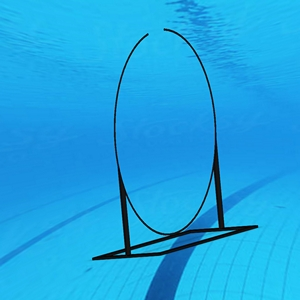circle: (92, 27, 260, 261)
